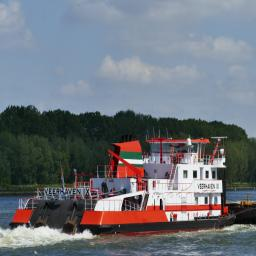tugboat: (8, 134, 238, 238)
